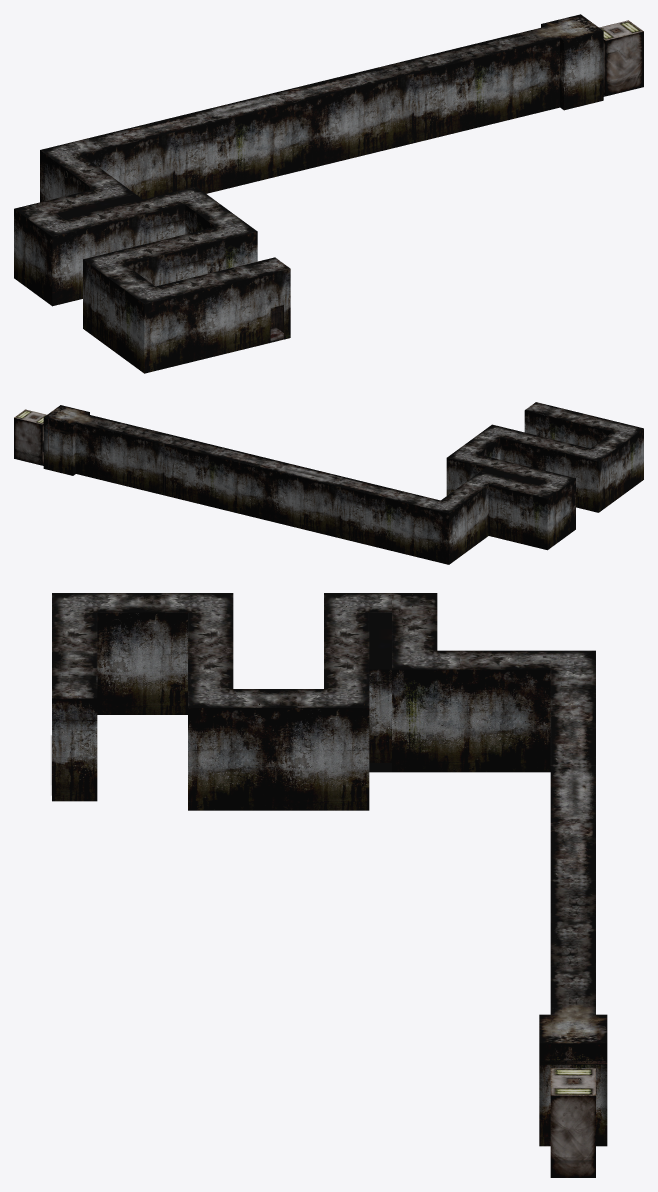
The picture shows the model from 3 angles, top to bottom: view 1: azimuth 30°, elevation 25°; view 2: azimuth 150°, elevation 25°; view 3: azimuth 270°, elevation 25°; orthographic projection. The views are drawn at different scales.
Visible parts, largest first — view 1: gr_1, gr_12, gr_2, gr_3, gr_10; view 2: gr_2, gr_3, gr_12, gr_1, gr_10; view 3: gr_12, gr_2, gr_1, gr_3, gr_10, gr_11.
Part boxes in pixels (box(x1,y1,x2,y2)): gr_1: box(47, 31, 603, 357); gr_12: box(14, 14, 603, 303); gr_2: box(14, 24, 570, 373); gr_3: box(90, 43, 603, 367); gr_10: box(599, 20, 643, 96); gr_2: box(48, 412, 643, 564); gr_3: box(43, 410, 638, 552); gr_12: box(44, 402, 643, 513); gr_1: box(105, 430, 604, 560); gr_10: box(14, 409, 46, 465); gr_12: box(52, 593, 607, 1043); gr_2: box(61, 594, 550, 810); gr_1: box(120, 612, 369, 810); gr_3: box(52, 594, 607, 1063); gr_10: box(550, 1068, 595, 1177); gr_11: box(539, 1043, 607, 1146).
Bounding box in the file's own units: 80.51 × 8.14 × 39.3.
Materials: 12 (12 with a texture image).
